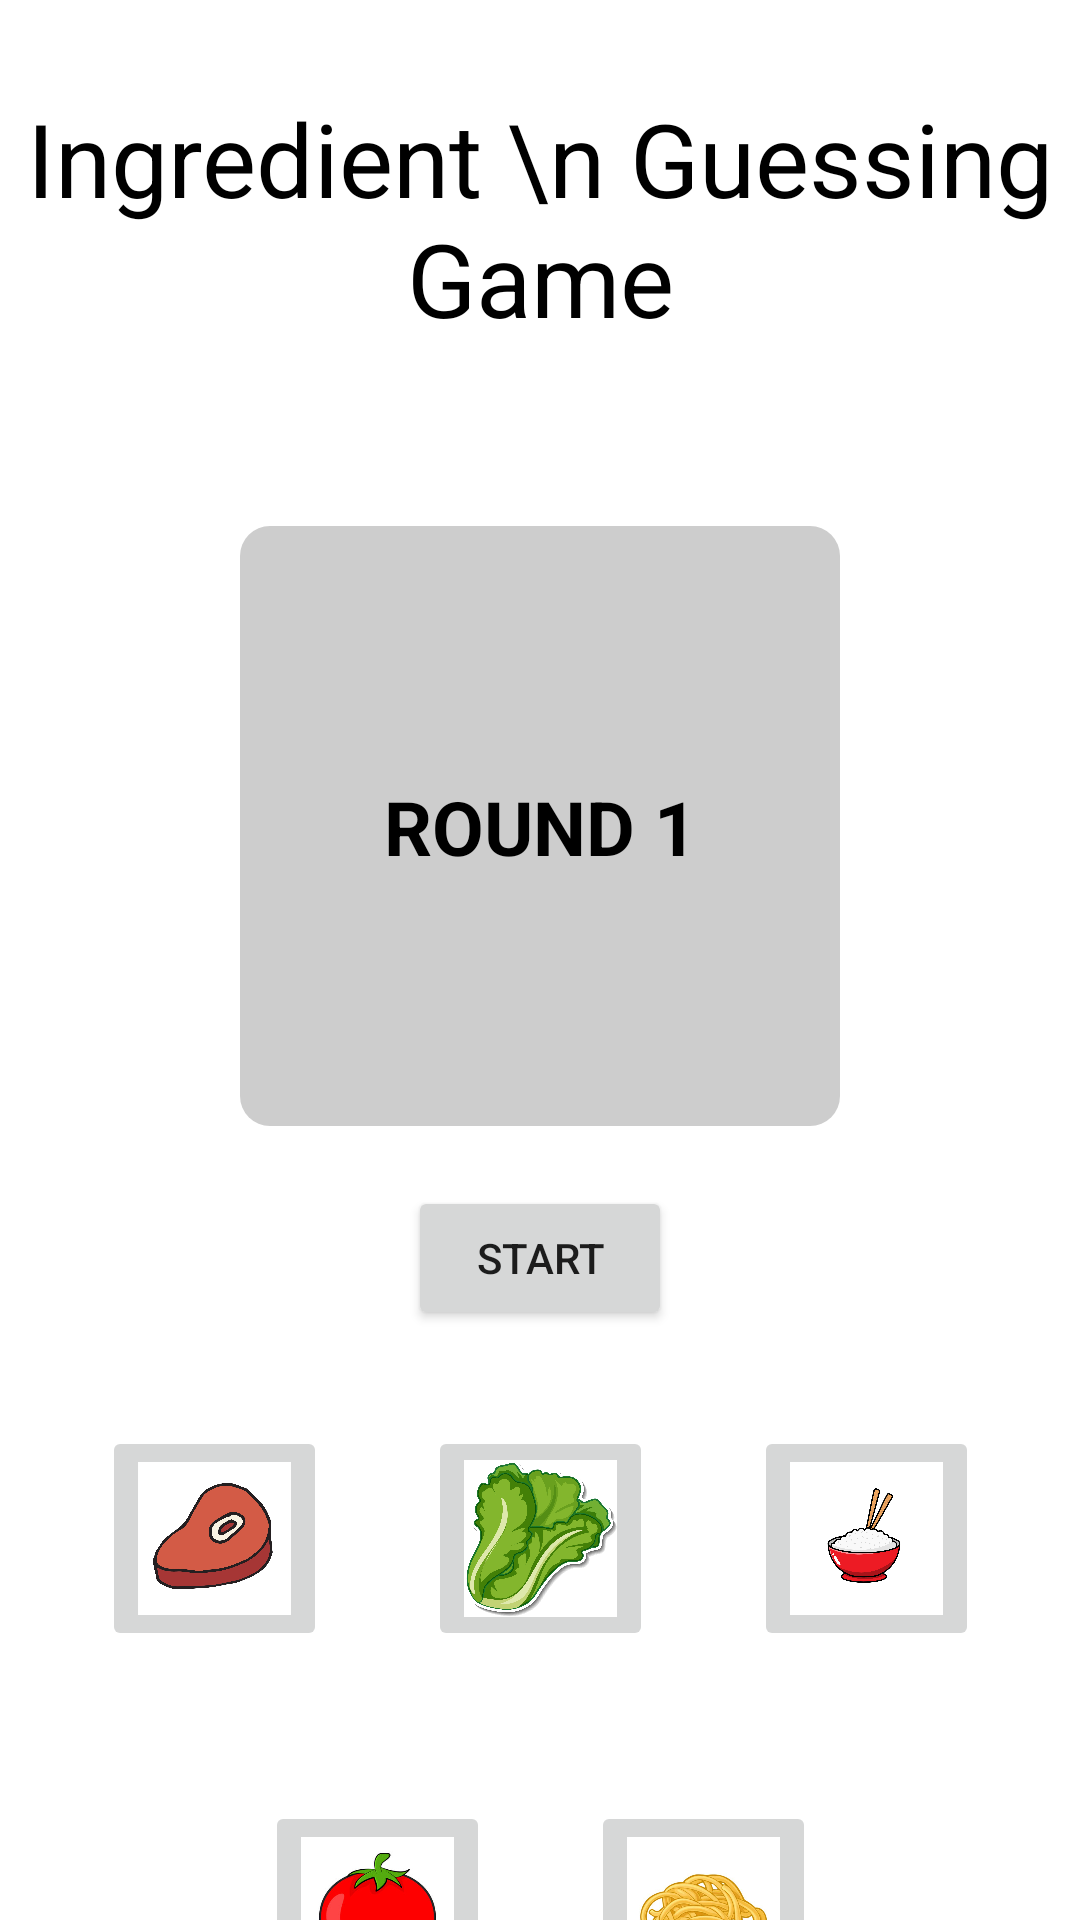

Icons on this 1080x1920 Android screen, each with its box as (x1, y1, x2, y2):
lettuce: (440, 1444, 641, 1633)
meat: (114, 1444, 315, 1633)
